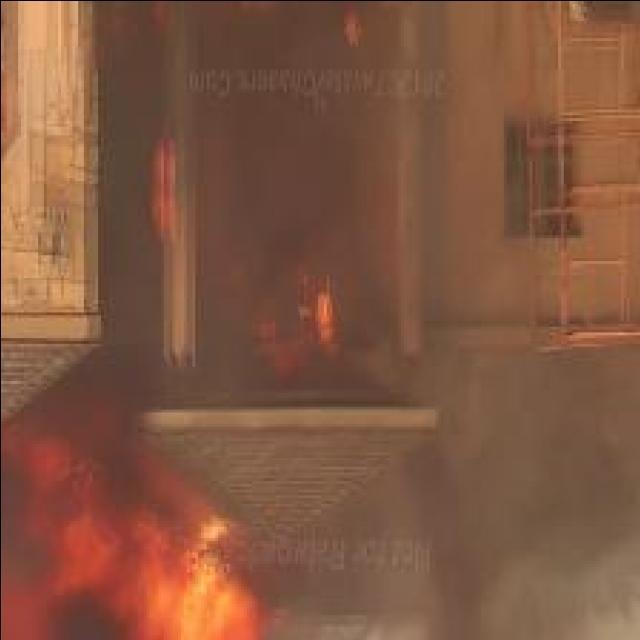Fire: (2, 389, 265, 640)
